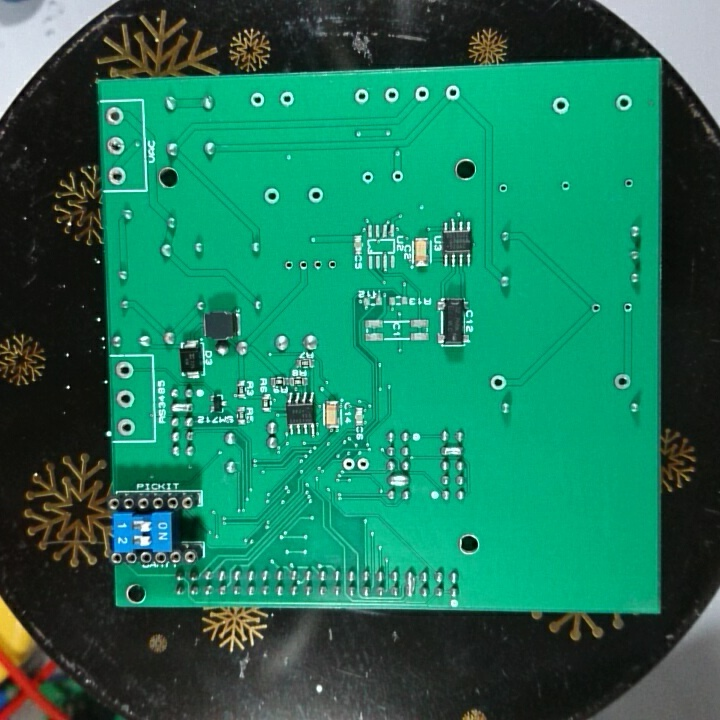F: (113, 417, 143, 439), (609, 368, 636, 392), (114, 358, 139, 383), (114, 387, 141, 409), (614, 89, 635, 116), (105, 133, 128, 157), (410, 81, 432, 106), (444, 83, 466, 106), (487, 374, 510, 396), (104, 104, 127, 126), (261, 184, 284, 206), (107, 166, 130, 187), (381, 86, 402, 107), (247, 89, 267, 111), (276, 88, 297, 108), (306, 183, 325, 205), (352, 86, 372, 106), (389, 165, 407, 186), (554, 95, 570, 117), (359, 168, 375, 190), (587, 300, 607, 317), (496, 180, 513, 198), (621, 300, 638, 317), (341, 455, 356, 474), (622, 175, 636, 192), (559, 178, 573, 194), (357, 456, 370, 472), (311, 258, 324, 272), (326, 258, 338, 272), (297, 260, 310, 272), (283, 260, 296, 272)
P: (403, 569, 419, 598), (167, 400, 194, 416), (439, 443, 465, 458), (388, 474, 415, 487)
